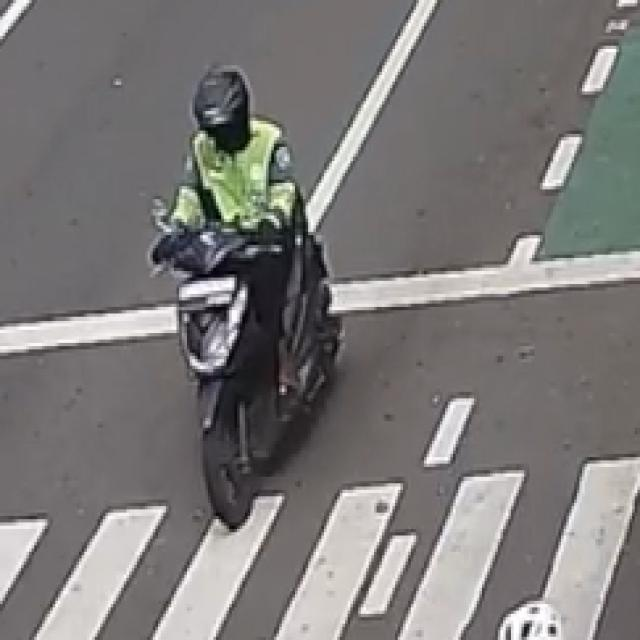helm: (190, 60, 254, 156)
motor: (150, 60, 344, 532)
spion: (151, 192, 181, 243)
